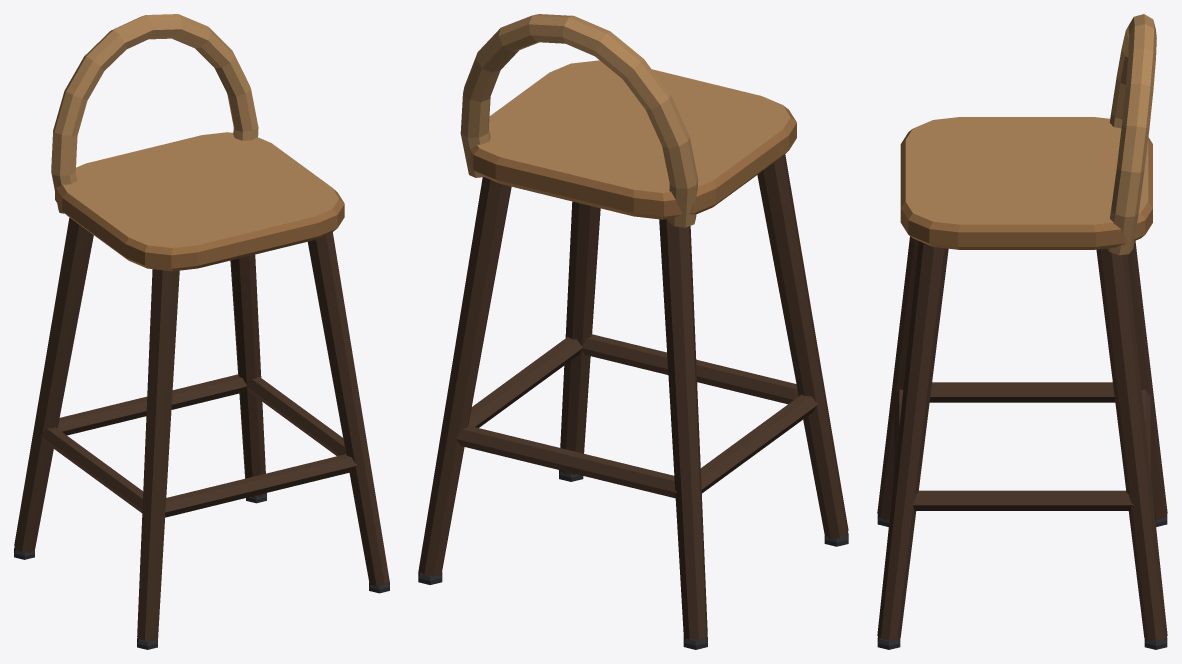
Rendered from FN_Stool_Counter.glb.
3 views of the same model, side by side, from view 1: azimuth 30°, elevation 25°; view 2: azimuth 150°, elevation 25°; view 3: azimuth 270°, elevation 25° (orthographic). The views are drawn at different scales.
Parts seen in each view (by area): view 1: FN_Stool_Counter; view 2: FN_Stool_Counter; view 3: FN_Stool_Counter.
Part boxes in pixels (box(x1,y1,x2,y2)): FN_Stool_Counter: box(14, 14, 389, 649); FN_Stool_Counter: box(418, 14, 848, 649); FN_Stool_Counter: box(877, 14, 1167, 649).
Bounding box in the file's own units: 0.432 × 0.8408 × 0.3958.
1 material, 1 textured.
